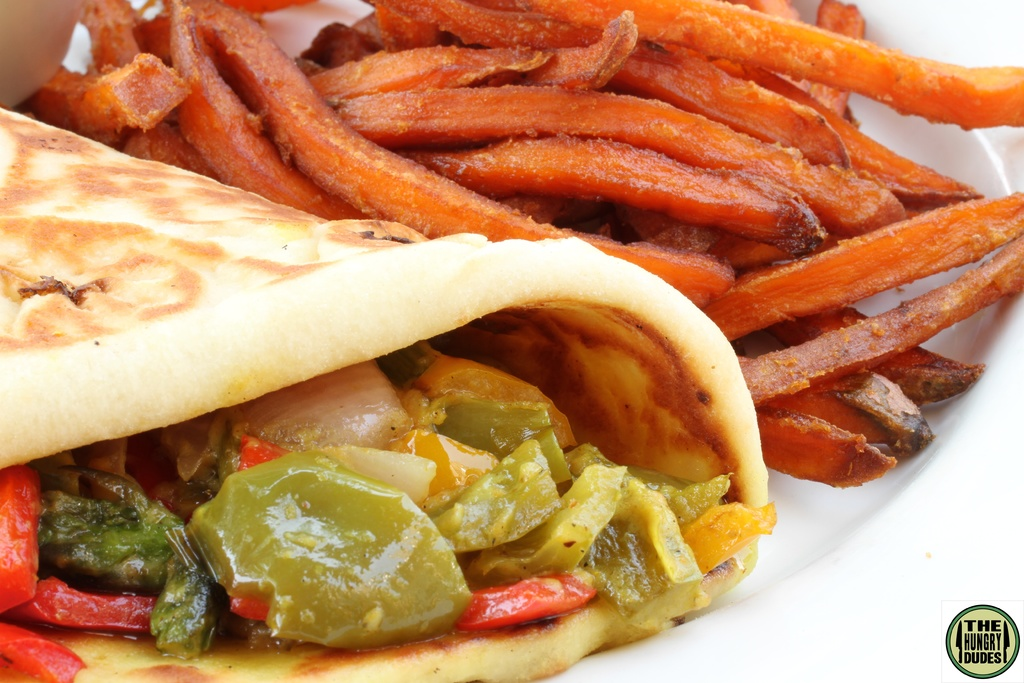French fries: (23, 0, 1023, 502)
